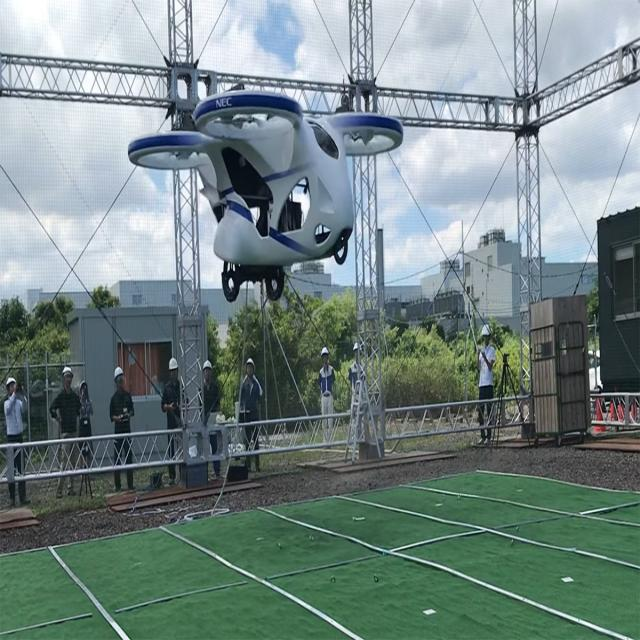drone: (126, 81, 407, 312)
